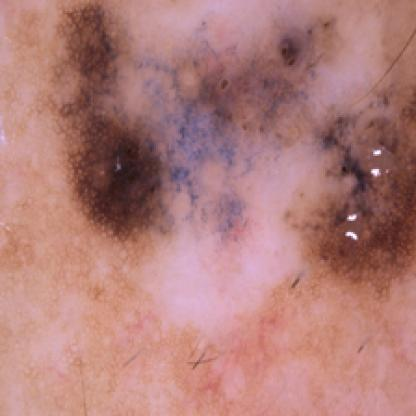Skin_Cancer-Malignant: (47, 2, 416, 285)
